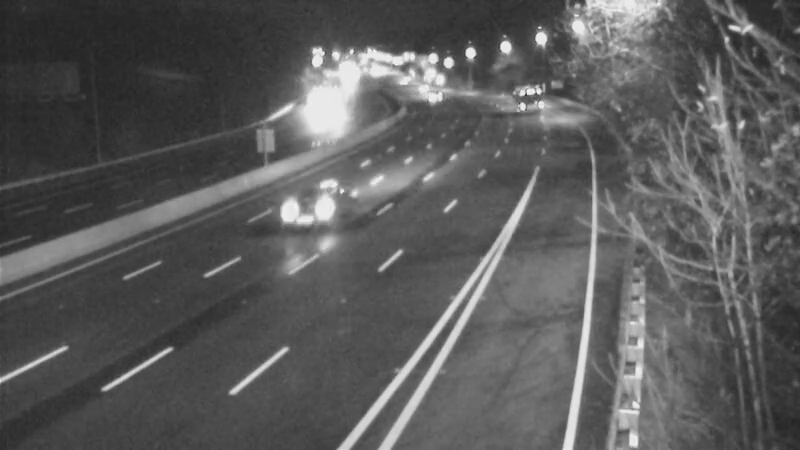vehicle: (271, 165, 351, 245), (407, 69, 457, 119), (495, 72, 545, 122), (290, 88, 340, 138)
